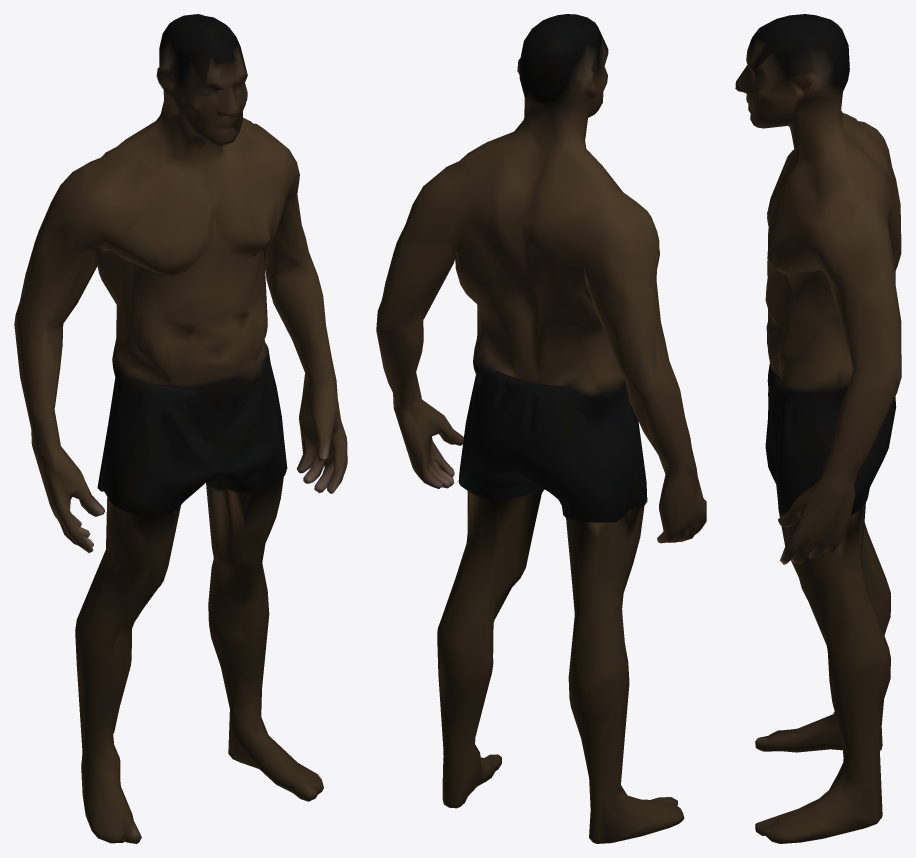
Rendered from 3d_female_model_LOD1.glb.
3 views of the same model, side by side, from view 1: azimuth 30°, elevation 25°; view 2: azimuth 150°, elevation 25°; view 3: azimuth 270°, elevation 25° (orthographic).
Parts seen in each view (by area): view 1: geometry_0; view 2: geometry_0; view 3: geometry_0.
Boxes of the visible parts, x1,y1,x2,y2 form: geometry_0: (14, 14, 347, 843); geometry_0: (376, 14, 706, 843); geometry_0: (735, 14, 901, 843).
Size of the model in its own units: 0.3964 by 1 by 0.1949.
